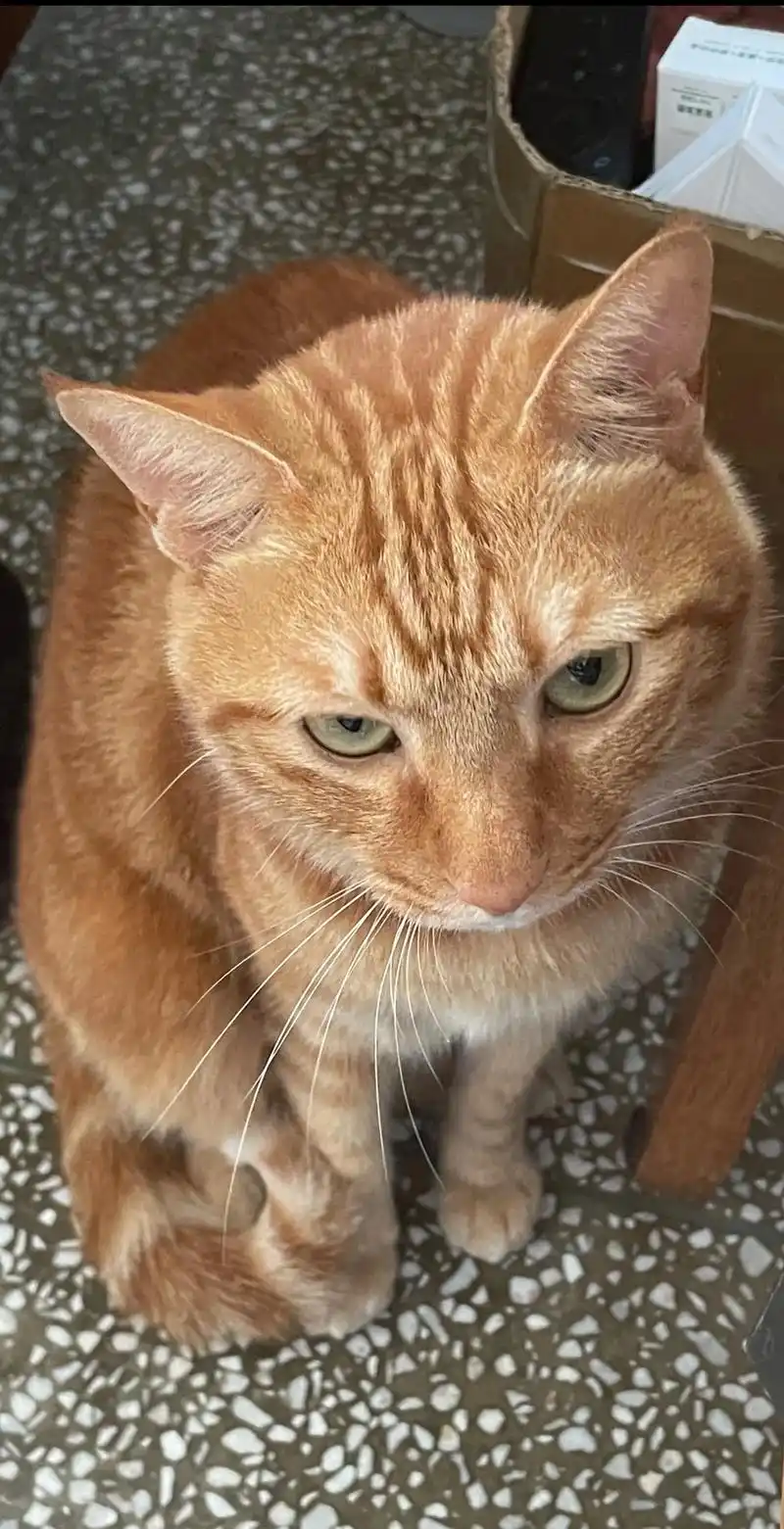橘猫: (21, 217, 783, 1194)
